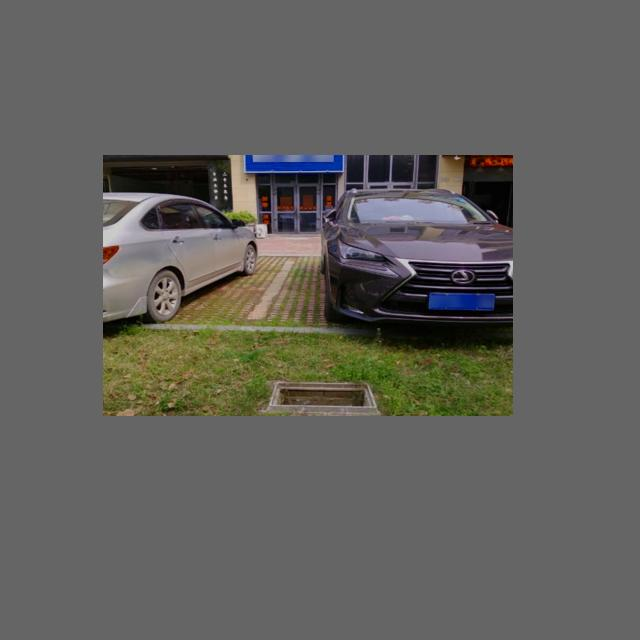lose: (267, 376, 377, 411)
